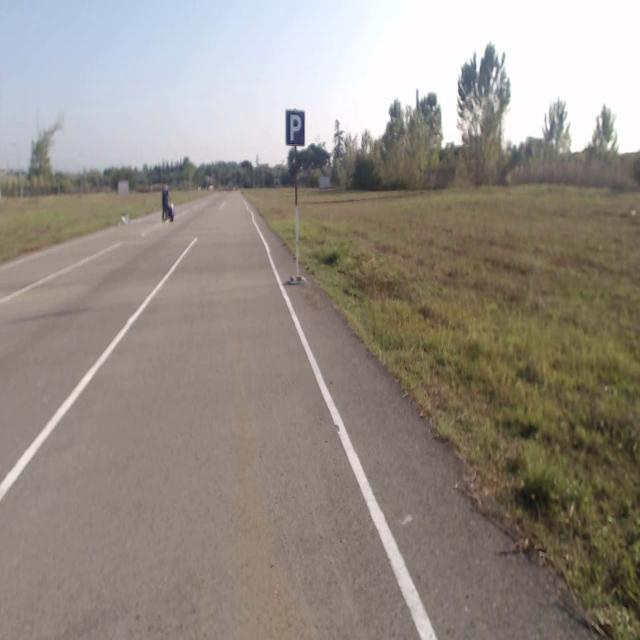park: (286, 110, 304, 145)
